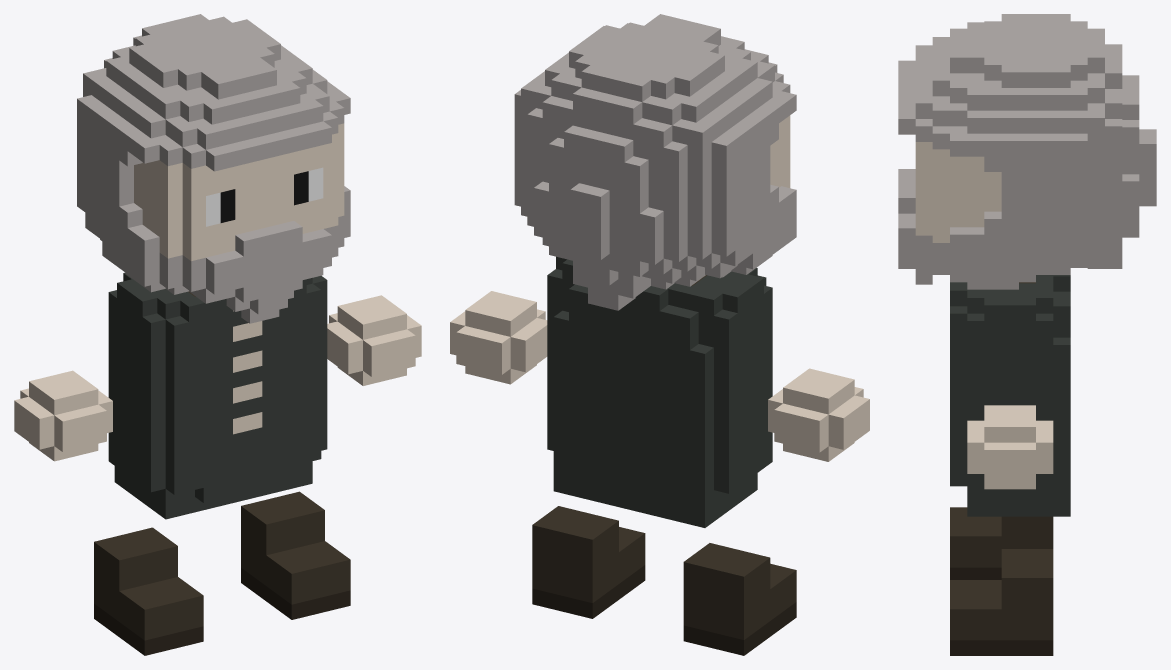
3 renders of one model, left to right at view 1: azimuth 30°, elevation 25°; view 2: azimuth 150°, elevation 25°; view 3: azimuth 270°, elevation 25°, orthographic. The views are drawn at different scales.
Parts seen in each view (by area): view 1: head, Tors, Leg_L, Leg_R, hand_R, Hand_L; view 2: head, Tors, Leg_R, Leg_L, hand_R, Hand_L; view 3: head, Tors, Leg_L, Hand_L, Leg_R.
Boxes of the visible parts, left/top/right/bottom form: head: left=77, top=14, right=350, bottom=323; Tors: left=108, top=272, right=327, bottom=519; Leg_L: left=241, top=491, right=350, bottom=619; Leg_R: left=94, top=527, right=203, bottom=655; hand_R: left=14, top=370, right=112, bottom=461; Hand_L: left=327, top=295, right=421, bottom=385; head: left=514, top=14, right=796, bottom=310; Tors: left=547, top=256, right=772, bottom=527; Leg_R: left=683, top=543, right=796, bottom=655; Leg_L: left=532, top=506, right=645, bottom=618; hand_R: left=768, top=368, right=869, bottom=461; Hand_L: left=450, top=291, right=547, bottom=384; head: left=898, top=14, right=1156, bottom=289; Tors: left=950, top=275, right=1070, bottom=516; Leg_L: left=950, top=549, right=1053, bottom=655; Hand_L: left=967, top=405, right=1053, bottom=489; Leg_R: left=950, top=507, right=1053, bottom=579.
Size of the model in its own units: 260 by 360 by 150.
